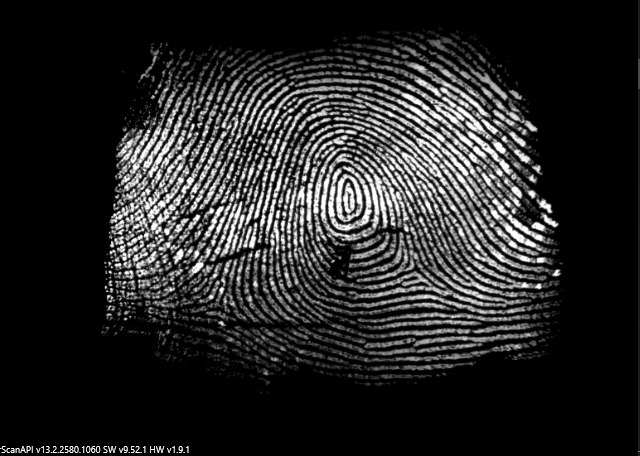deltas: (185, 275, 246, 326), (388, 244, 436, 295)
nucleo: (329, 177, 372, 220)
